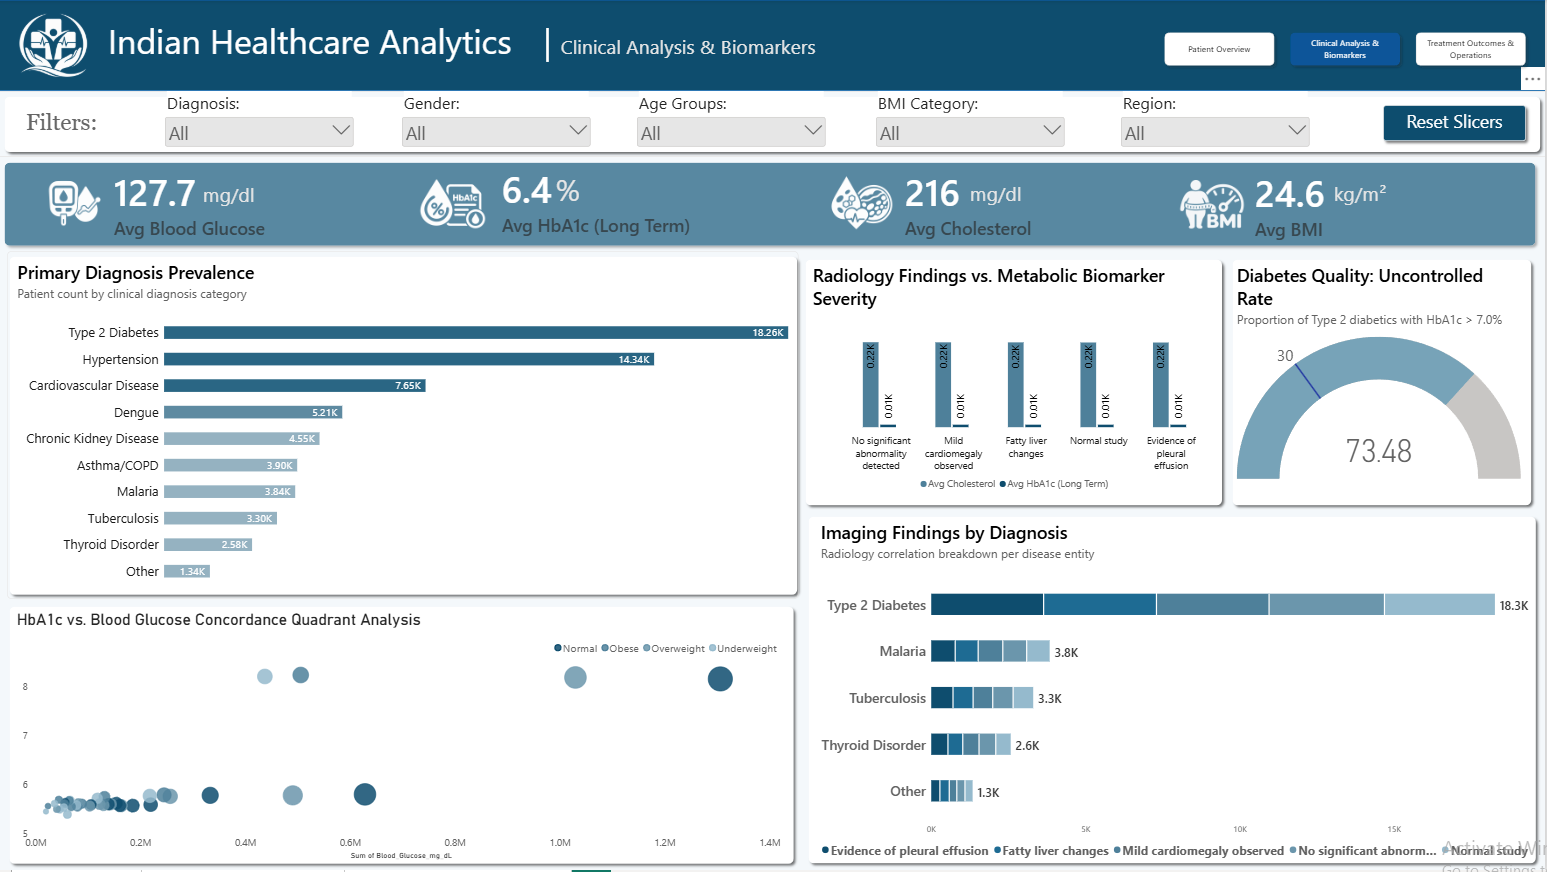

The page's visual inventory and layout, read from the dashboard file:
{"tool":"powerbi","page":{"name":"Clinical Analysis & Biomarkers","canvas":[2560,1440],"ordinal":1},"visuals":[{"type":"shape","box":[0,260,2552,156],"z":0},{"type":"shape","box":[0,0,2560,150],"z":1000},{"type":"cardVisual","fields":{"Data":["Indian_healthcare.Avg BMI"]},"box":[2062.5,262.5,295,150],"z":2000},{"type":"textbox","box":[180,30,2355,87.5],"z":3000},{"type":"shape","box":[8,416,1322,578],"z":4000},{"type":"shape","box":[0,150,2560,110],"z":5000},{"type":"cardVisual","fields":{"Data":["Indian_healthcare.Avg Cholesterol"]},"box":[1482.5,262.5,250,147.5],"z":5000,"group":"g3"},{"type":"clusteredBarChart","title":"Primary Diagnosis Prevalence","fields":{"Y":["Indian_healthcare.Total Patients"],"Category":["Indian_healthcare.Primary_Diagnosis"]},"box":[14,416,1310,576],"z":6000},{"type":"cardVisual","fields":{"Data":["Indian_healthcare.Avg Glucose"]},"box":[174.1,262,289.9,150],"z":7000,"group":"g1"},{"type":"shape","box":[2032.5,420,512.5,425],"z":7000},{"type":"shape","box":[8,994,1316,444],"z":8000},{"type":"gauge","title":"Diabetes Quality: Uncontrolled Rate","fields":{"Y":["Indian_healthcare.Uncontrolled Diabetes %"]},"box":[2032.5,420,502.5,425],"z":9000},{"type":"cardVisual","fields":{"Data":["Indian_healthcare.Avg HbA1c"]},"box":[816,272,359.6,120],"z":10000,"group":"g2"},{"type":"shape","box":[1330,846,1222,592],"z":10000},{"type":"barChart","title":"Imaging Findings by Diagnosis","fields":{"Y":["Indian_healthcare.Total Patients"],"Category":["Indian_healthcare.Primary_Diagnosis"],"Series":["Indian_healthcare.Imaging_Findings"]},"box":[1344,846,1216,594],"z":11000},{"type":"image","box":[0,0,180,150],"z":12000},{"type":"actionButton","box":[2282,166,253.3,76.7],"z":13000},{"type":"group","id":"g1","title":"Group 1","box":[174.1,262,289.9,150],"z":14000},{"type":"group","id":"g2","title":"Group 2","box":[816,272,360,120],"z":15000},{"type":"slicer","fields":{"Values":["Indian_healthcare.Primary_Diagnosis"]},"box":[270,150,322,92],"z":16000},{"type":"textbox","box":[44,180,135.7,44.3],"z":17000},{"type":"slicer","fields":{"Values":["Indian_healthcare.Gender"]},"box":[662,150,322,92],"z":18000},{"type":"slicer","fields":{"Values":["Indian_healthcare.Age_Group"]},"box":[1051.8,150,322,92],"z":19000},{"type":"slicer","fields":{"Values":["Indian_healthcare.BMI_Category"]},"box":[1446.4,150.9,322,92],"z":20000},{"type":"group","id":"g3","title":"Group 3","box":[1482.5,262.5,250,147.5],"z":21000},{"type":"textbox","box":[337.5,300,93.8,47.5],"z":22000},{"type":"image","box":[682.7,276.4,138.9,120],"z":23000,"group":"g5"},{"type":"image","box":[1357.3,276.4,138.9,120],"z":23000,"group":"g6"},{"type":"image","box":[52.1,277.1,146,120],"z":23000,"group":"g4"},{"type":"image","box":[1938.9,277.8,138.9,120],"z":23000,"group":"g7"},{"type":"textbox","box":[922,282,48,80],"z":23000},{"type":"textbox","box":[1607.5,298.8,103.3,47.8],"z":24000},{"type":"textbox","box":[2210,297.5,87,47],"z":25000},{"type":"slicer","fields":{"Values":["Indian_healthcare.Region"]},"box":[1851.8,150,322,92],"z":26000},{"type":"scatterChart","title":"HbA1c vs. Blood Glucose Concordance Quadrant Analysis","fields":{"X":["Sum(Indian_healthcare.Blood_Glucose_mg_dL)"],"Y":["Indian_healthcare.Avg HbA1c (Long Term)"],"Category":["Indian_healthcare.Primary_Diagnosis"],"Series":["Indian_healthcare.BMI_Category"],"Size":["Indian_healthcare.Total Patients"]},"box":[14,994,1296,444],"z":27000},{"type":"shape","box":[1325,420,707.5,425],"z":28000},{"type":"clusteredColumnChart","title":"Radiology Findings vs. Metabolic Biomarker Severity","fields":{"Category":["Indian_healthcare.Imaging_Findings"],"Y":["Indian_healthcare.Avg Cholesterol","Indian_healthcare.Avg HbA1c (Long Term)"]},"box":[1330,420,703.3,411.7],"z":29000},{"type":"pageNavigator","box":[1920,44,616.4,73.8],"z":30000},{"type":"group","id":"g4","title":"Group 2","box":[52.1,277.1,145.7,120],"z":31000},{"type":"group","id":"g5","title":"Group 2","box":[682.7,276.4,140,120],"z":32000},{"type":"group","id":"g6","title":"Group 2","box":[1357.3,276.4,140,120],"z":33000},{"type":"group","id":"g7","title":"Group 2","box":[1938.9,277.8,140,120],"z":34000}]}

Visuals, with their boxes on the page's 2560x1440 design canvas (x1, y1, x2, y2). These are canvas units, not pixel positions in the 1547x872 screenshot, which may show the page scaled, cropped or inside an application window:
shape: bbox(0, 260, 2552, 416)
shape: bbox(0, 0, 2560, 150)
cardVisual - Indian_healthcare.Avg BMI: bbox(2062, 262, 2358, 412)
textbox: bbox(180, 30, 2535, 118)
shape: bbox(8, 416, 1330, 994)
shape: bbox(0, 150, 2560, 260)
cardVisual - Indian_healthcare.Avg Cholesterol: bbox(1482, 262, 1732, 410)
"Primary Diagnosis Prevalence" clusteredBarChart: bbox(14, 416, 1324, 992)
cardVisual - Indian_healthcare.Avg Glucose: bbox(174, 262, 464, 412)
shape: bbox(2032, 420, 2545, 845)
shape: bbox(8, 994, 1324, 1438)
"Diabetes Quality: Uncontrolled Rate" gauge: bbox(2032, 420, 2535, 845)
cardVisual - Indian_healthcare.Avg HbA1c: bbox(816, 272, 1176, 392)
shape: bbox(1330, 846, 2552, 1438)
"Imaging Findings by Diagnosis" barChart: bbox(1344, 846, 2560, 1440)
image: bbox(0, 0, 180, 150)
actionButton: bbox(2282, 166, 2535, 243)
"Group 1" group: bbox(174, 262, 464, 412)
"Group 2" group: bbox(816, 272, 1176, 392)
slicer - Indian_healthcare.Primary_Diagnosis: bbox(270, 150, 592, 242)
textbox: bbox(44, 180, 180, 224)
slicer - Indian_healthcare.Gender: bbox(662, 150, 984, 242)
slicer - Indian_healthcare.Age_Group: bbox(1052, 150, 1374, 242)
slicer - Indian_healthcare.BMI_Category: bbox(1446, 151, 1768, 243)
"Group 3" group: bbox(1482, 262, 1732, 410)
textbox: bbox(338, 300, 431, 348)
image: bbox(683, 276, 822, 396)
image: bbox(1357, 276, 1496, 396)
image: bbox(52, 277, 198, 397)
image: bbox(1939, 278, 2078, 398)
textbox: bbox(922, 282, 970, 362)
textbox: bbox(1608, 299, 1711, 347)
textbox: bbox(2210, 298, 2297, 344)
slicer - Indian_healthcare.Region: bbox(1852, 150, 2174, 242)
"HbA1c vs. Blood Glucose Concordance Quadrant Analysis" scatterChart: bbox(14, 994, 1310, 1438)
shape: bbox(1325, 420, 2032, 845)
"Radiology Findings vs. Metabolic Biomarker Severity" clusteredColumnChart: bbox(1330, 420, 2033, 832)
pageNavigator: bbox(1920, 44, 2536, 118)
"Group 2" group: bbox(52, 277, 198, 397)
"Group 2" group: bbox(683, 276, 823, 396)
"Group 2" group: bbox(1357, 276, 1497, 396)
"Group 2" group: bbox(1939, 278, 2079, 398)
